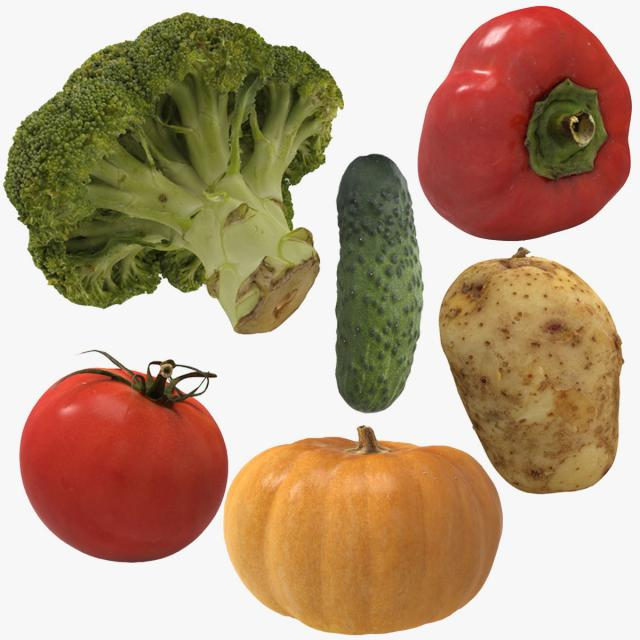broccoli: (5, 10, 342, 342)
